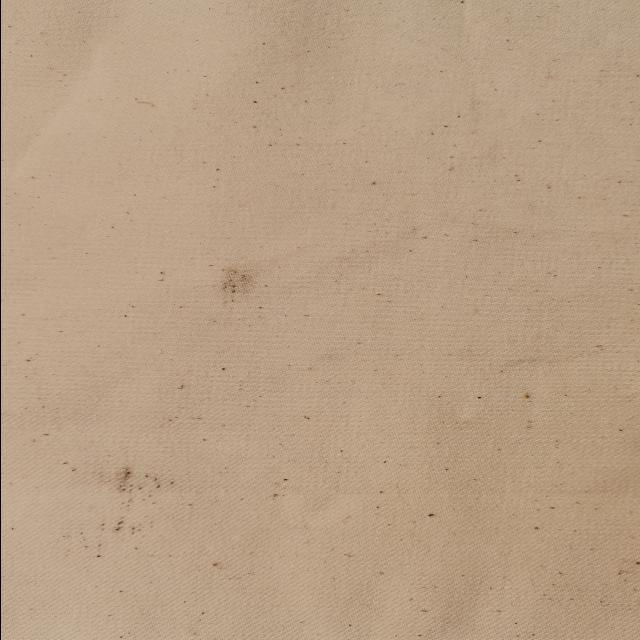taaaches: (93, 464, 167, 502), (84, 517, 154, 555), (209, 264, 269, 306)
